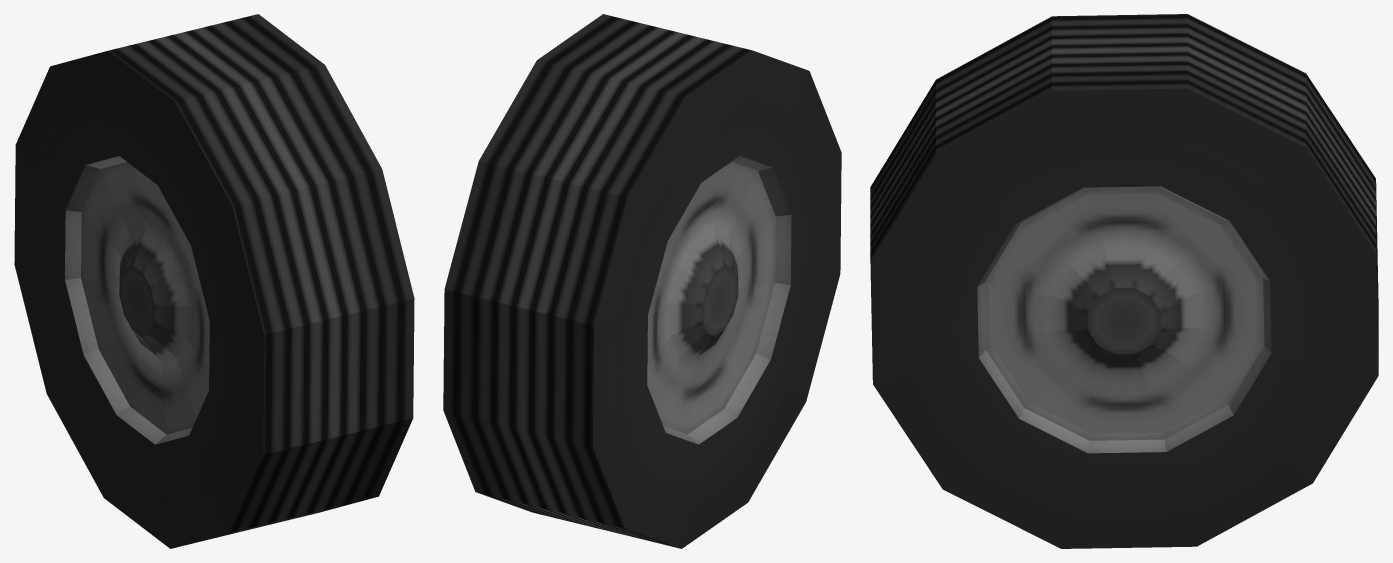
The model's file is D25WheelA.fbx.
3 renders of one model, left to right at view 1: azimuth 30°, elevation 25°; view 2: azimuth 150°, elevation 25°; view 3: azimuth 270°, elevation 25°, orthographic. The views are drawn at different scales.
Parts seen in each view (by area): view 1: GavrilWheel; view 2: GavrilWheel; view 3: GavrilWheel.
Part boxes in pixels (x1,y1,x2,y2): GavrilWheel: (14,14,414,548); GavrilWheel: (443,14,841,548); GavrilWheel: (870,14,1378,548).
Bounding box in the file's own units: 0.3705 × 1.02 × 1.02.
